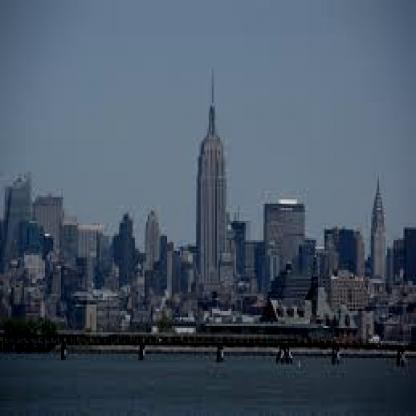Empire-State-building: (196, 60, 228, 260)
